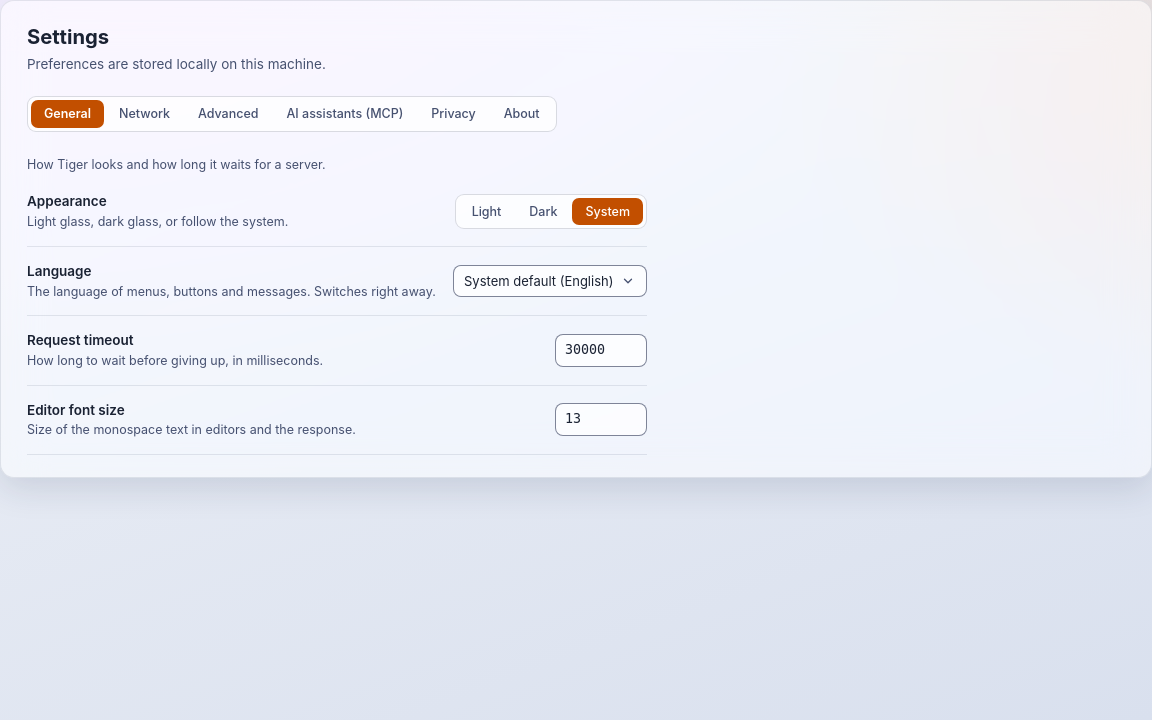
SettingsView extras › numeric settings commit on blur or Enter, clamped to their bounds › an empty or garbage draft falls back to the saved value
Clear the number field named "Request timeout (ms)". click: (601, 350)
box: [555,334,647,367]
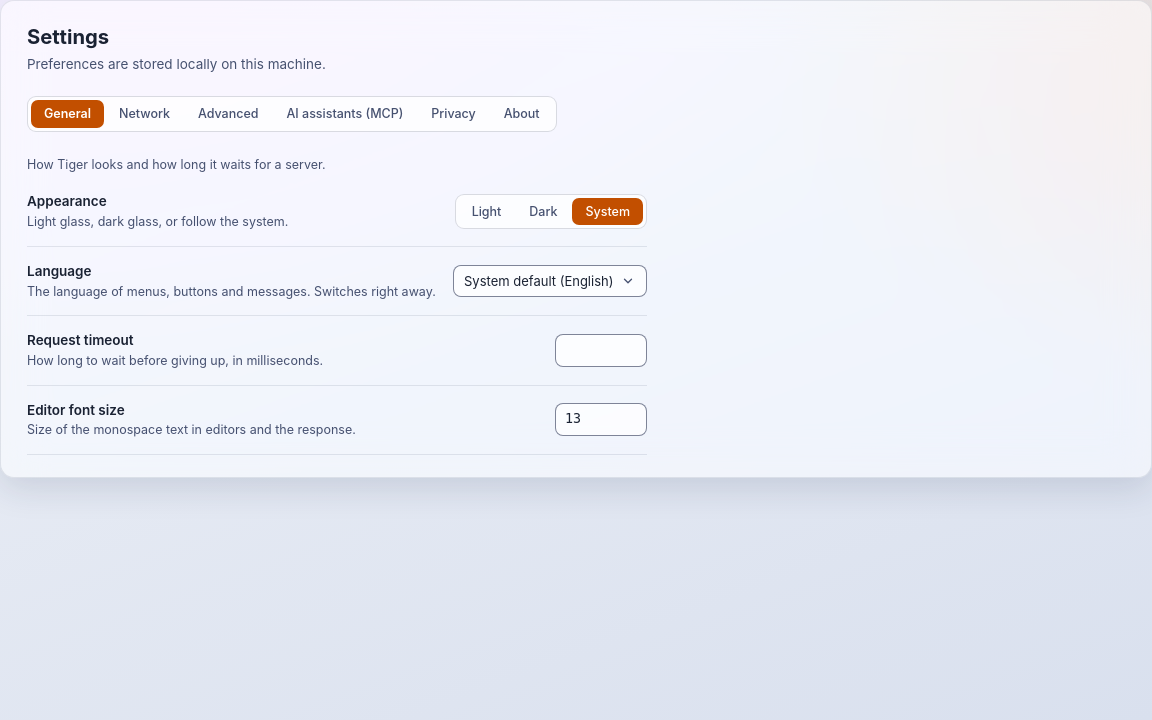
Leave the number field named "Request timeout (ms)", box [555,334,647,367]
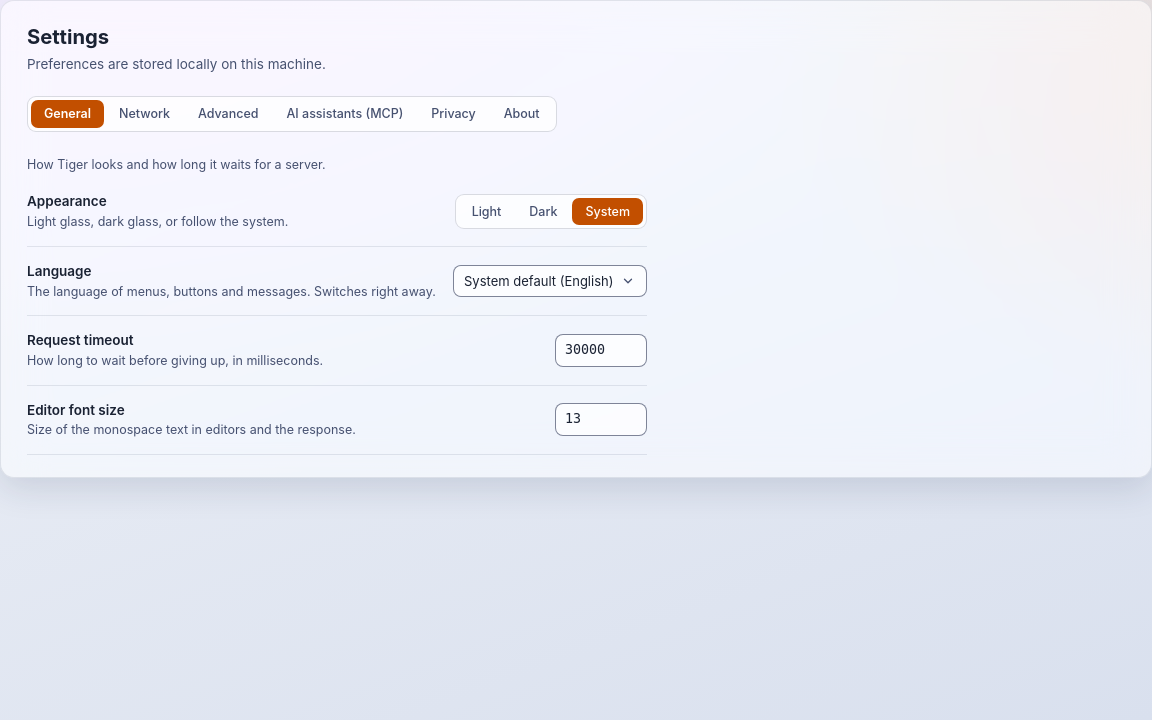
Result: the number field named "Request timeout (ms)" holds "30000" at [555,334,647,367]
